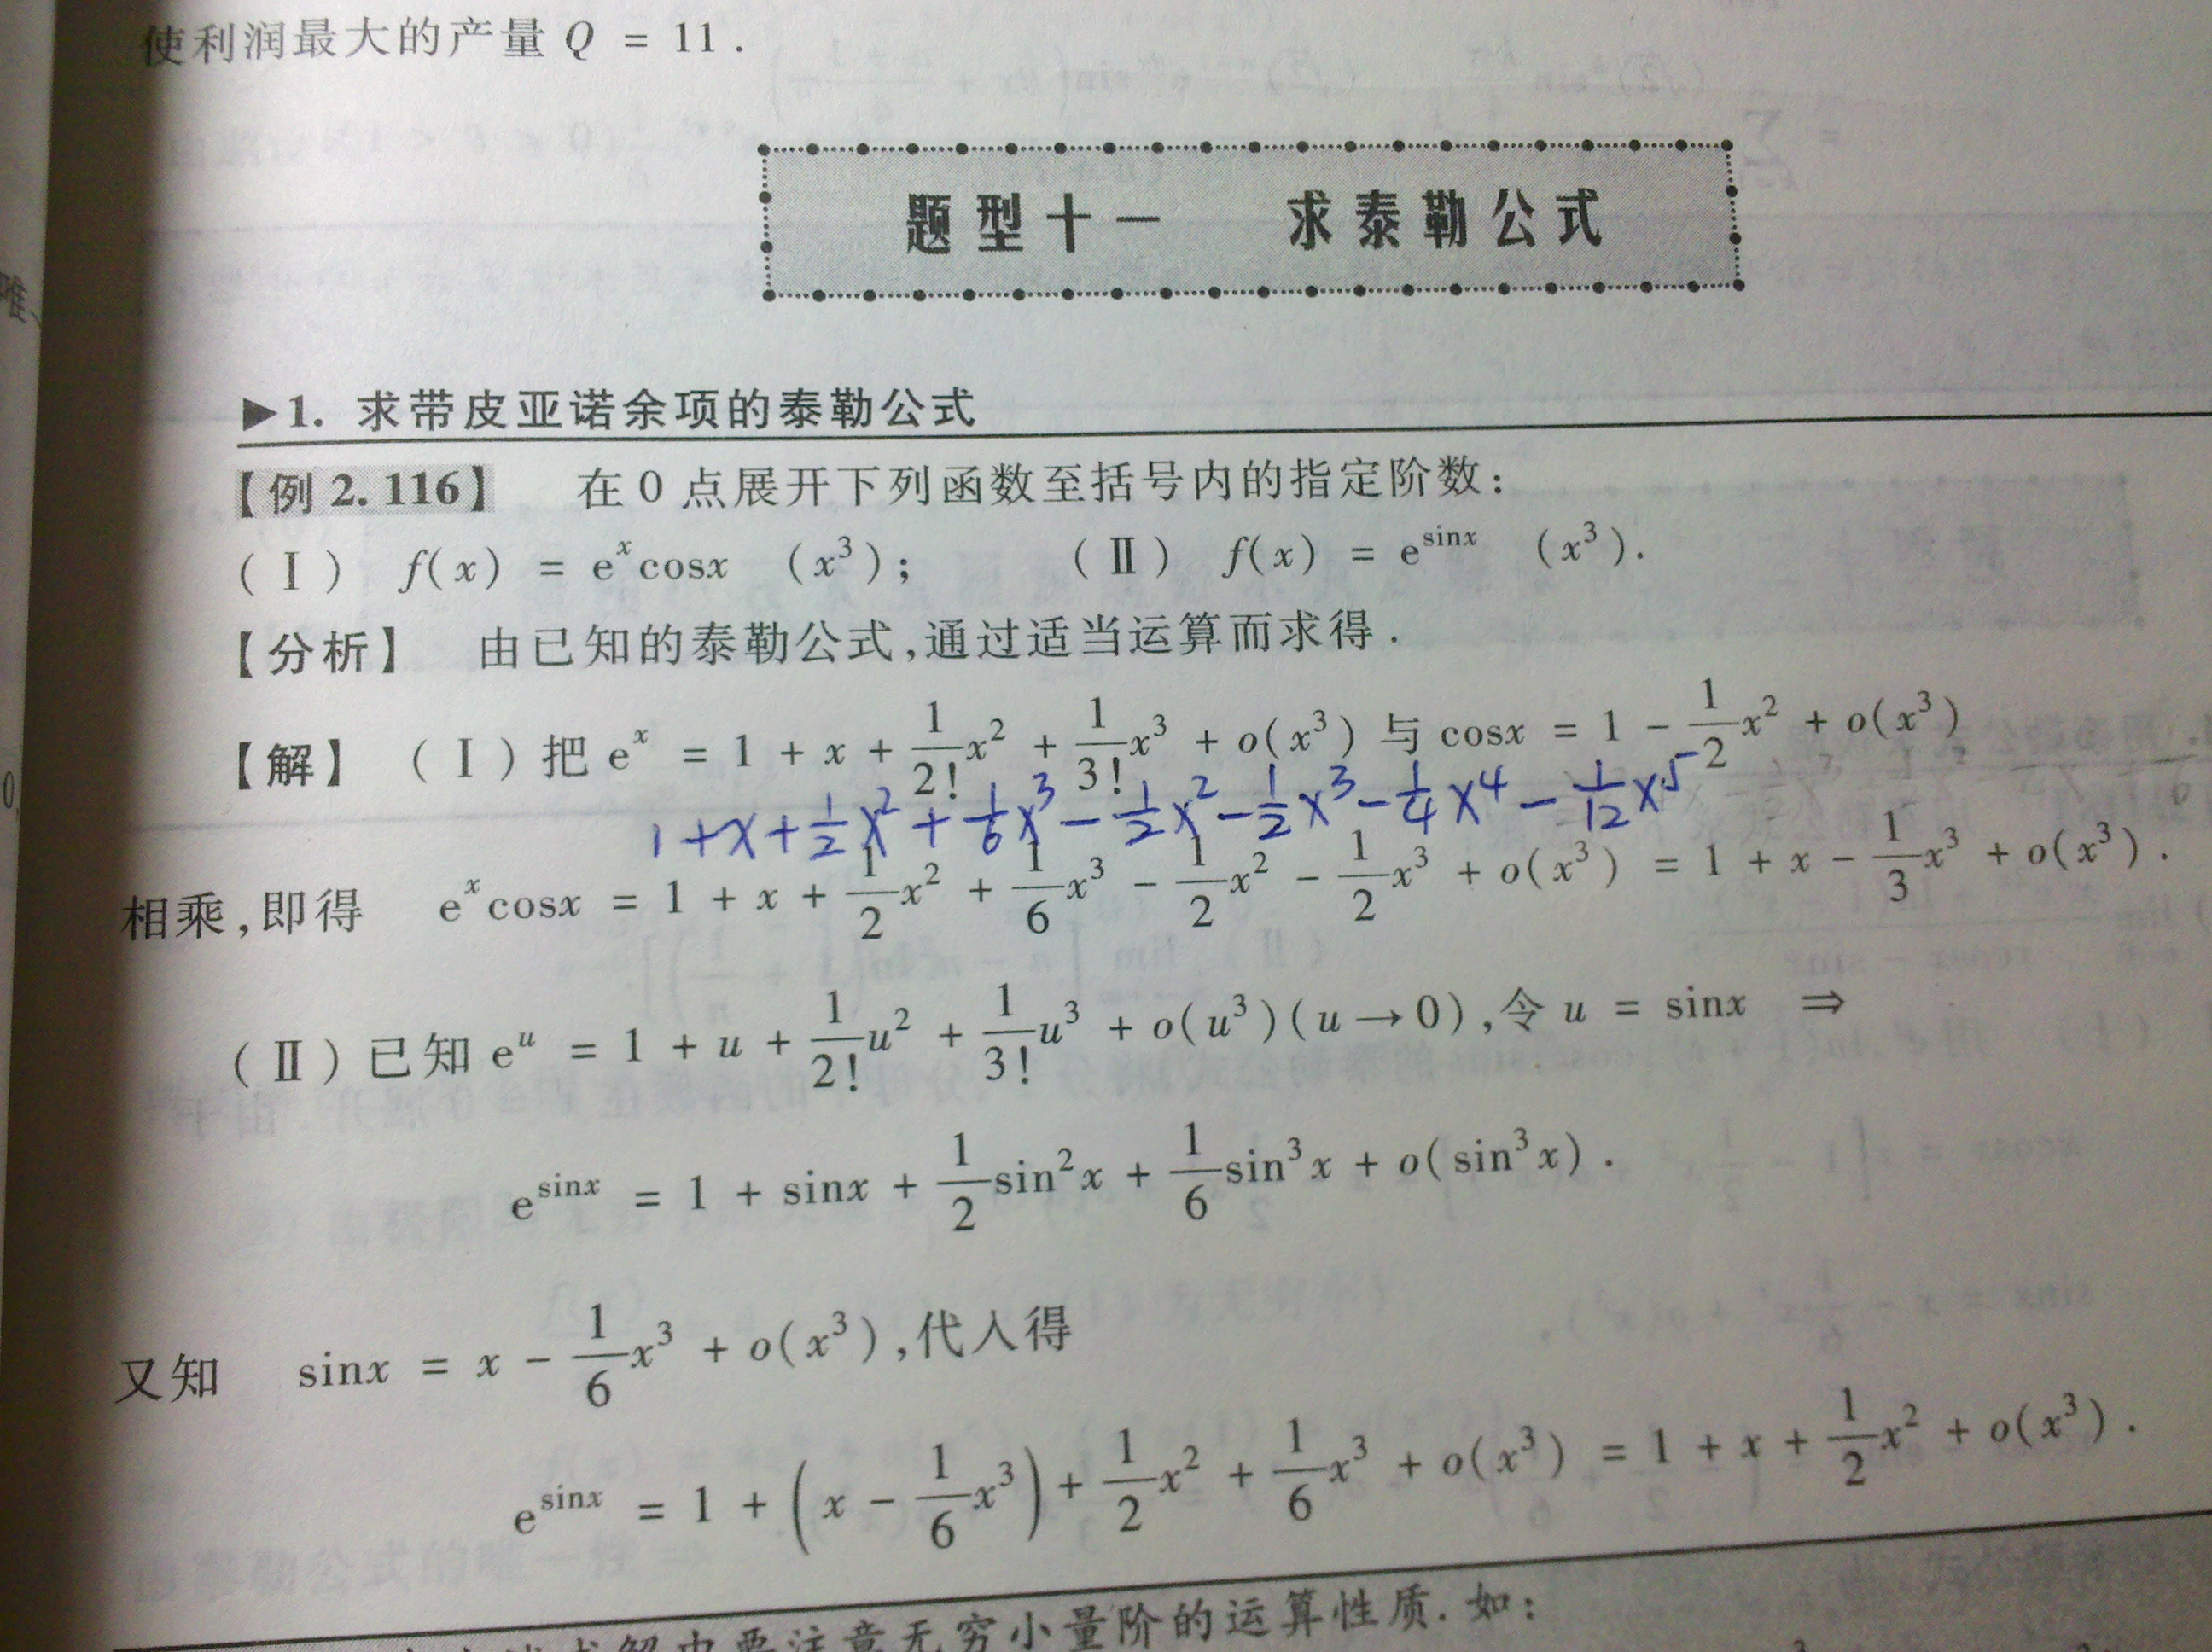cube: (831, 1303, 871, 1341), (2054, 1383, 2085, 1428), (833, 528, 864, 564), (1341, 1426, 1369, 1466), (1404, 840, 1438, 871), (1225, 987, 1256, 1020), (1282, 1137, 1313, 1168), (1908, 685, 1938, 718), (2084, 814, 2111, 849), (1943, 817, 1967, 855), (989, 1456, 1015, 1491), (1574, 517, 1603, 547), (1518, 1423, 1546, 1454), (1034, 772, 1057, 810), (1053, 1000, 1090, 1020), (654, 1322, 680, 1348), (1575, 831, 1596, 862), (1084, 854, 1105, 883), (1513, 1121, 1532, 1152), (1154, 710, 1171, 743), (1312, 703, 1327, 737)
square: (895, 1006, 926, 1041), (984, 713, 1011, 751), (1053, 1142, 1076, 1182), (1173, 1445, 1202, 1475), (918, 861, 949, 882), (1903, 1397, 1922, 1430)
